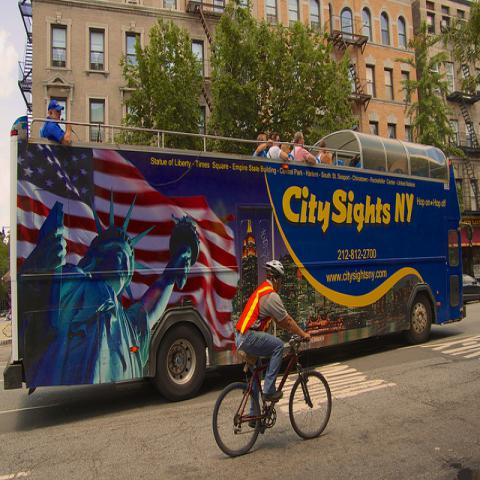bus: (5, 125, 464, 397)
